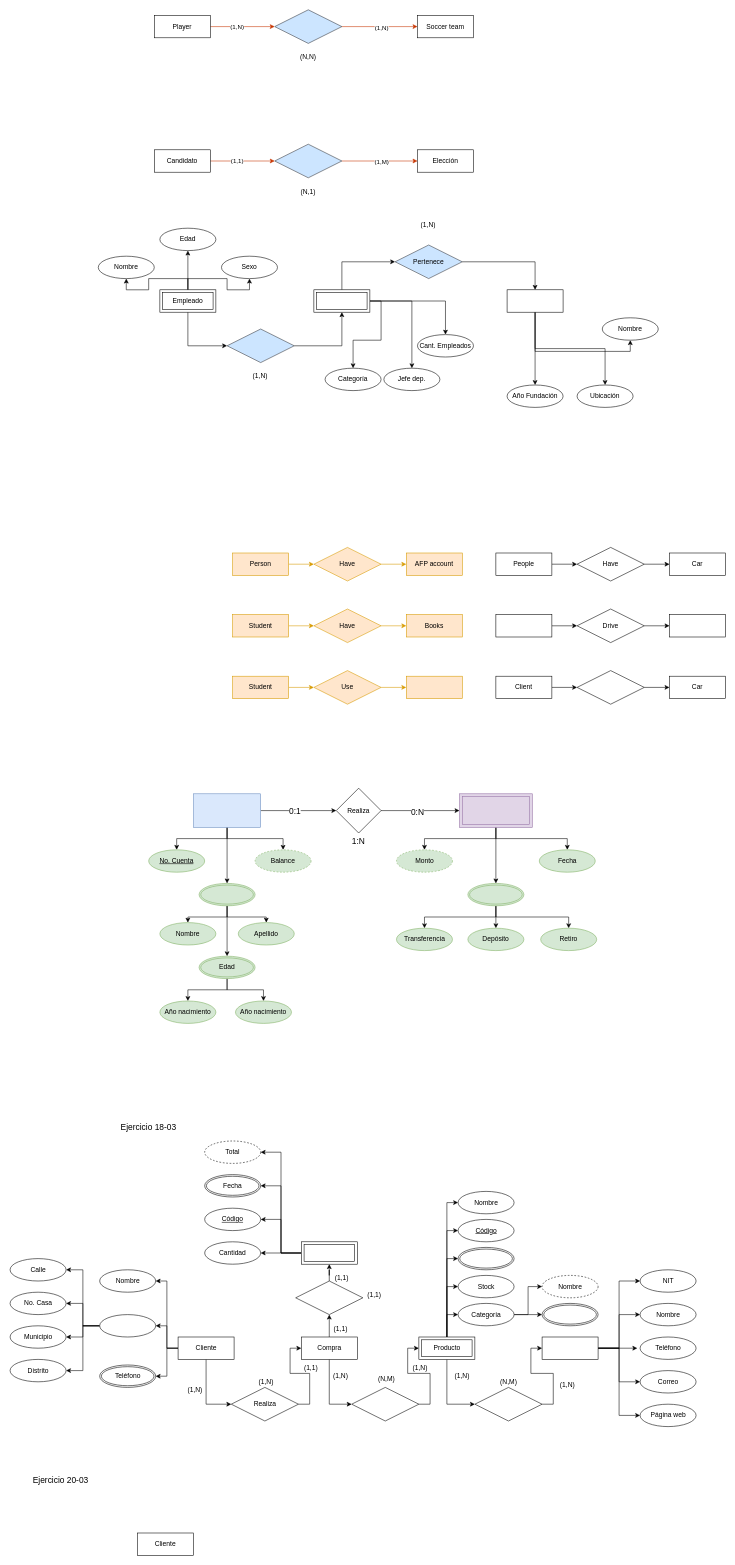
Image size: 735x1565. Some labels were removed from this diagram. The box of each missing label's shape, as (x1, y1, x2, y2) in pixels:
Belong to: (274, 9, 342, 43)
Cuenta: (193, 793, 261, 827)
Departamento: (313, 289, 370, 312)
Descripción: (542, 1303, 598, 1326)
Dirección: (99, 1314, 156, 1337)
Driver: (495, 614, 552, 637)
Empresa: (507, 289, 563, 312)
Factura: (301, 1241, 357, 1264)
Genera: (295, 1280, 363, 1315)
Library: (406, 676, 462, 699)
Participa: (274, 144, 342, 178)
Precio: (458, 1247, 514, 1270)
Proveedor: (542, 1336, 598, 1359)
Rent: (577, 670, 644, 704)
Suministra: (474, 1387, 542, 1421)
Taxi: (669, 614, 725, 637)
Tiene: (351, 1387, 419, 1421)
Tipo de movimiento: (467, 883, 524, 906)
Trabaja: (227, 328, 294, 363)
Transacción: (459, 793, 532, 827)
Usuario: (199, 883, 255, 906)
